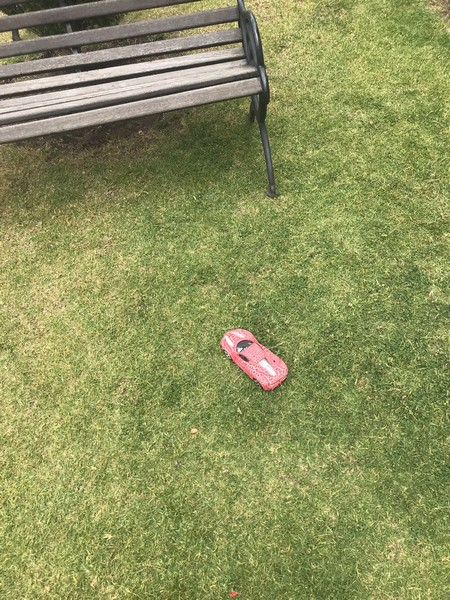RC: (217, 327, 289, 391)
